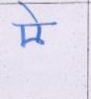e_matra: (20, 3, 41, 23)
